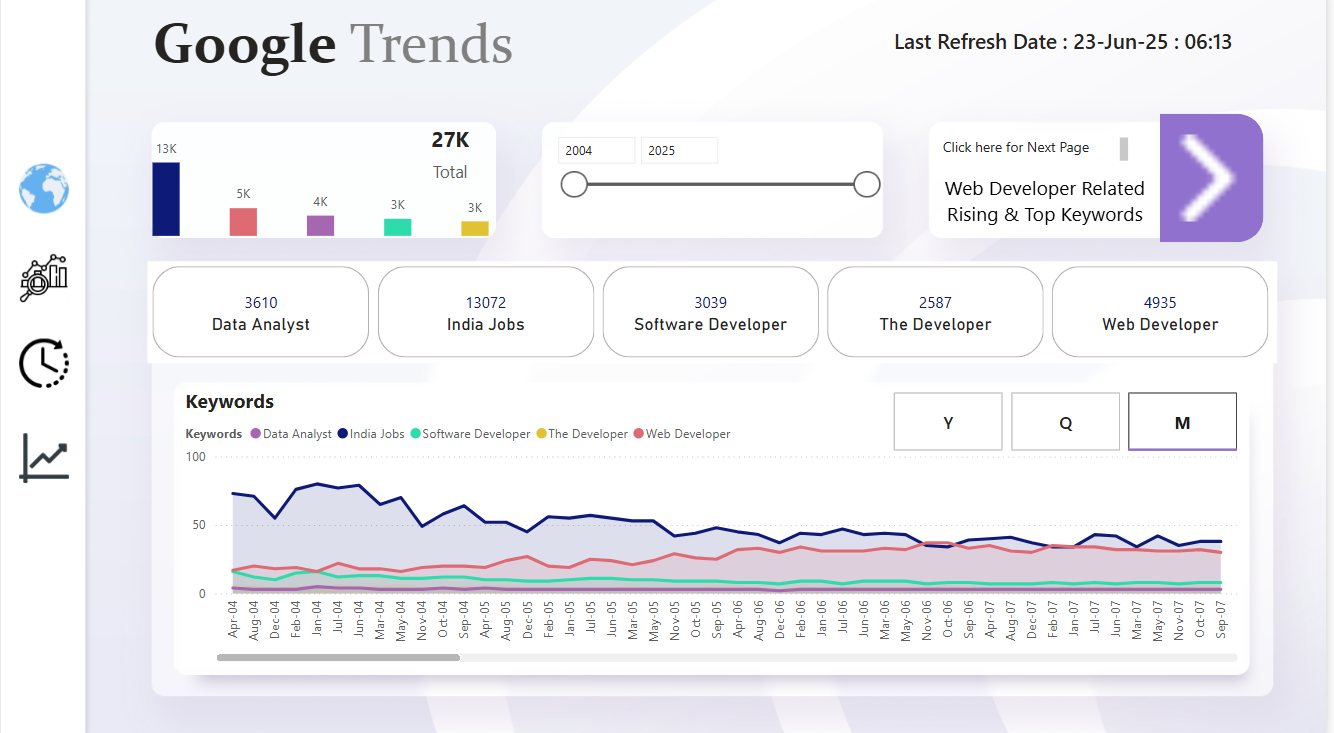

What the dashboard file says about the page in this screenshot:
{"tool":"powerbi","page":{"name":"Keywords by Date","canvas":[1280,720],"ordinal":1},"visuals":[{"type":"areaChart","title":"Keywords","fields":{"Category":["By_Date_API.Month-Yr"],"Y":["By_Date_API.By_Date_Value"],"Series":["By_Date_API.Keywords"]},"box":[174,384,1026,270],"z":0},{"type":"advancedSlicerVisual","fields":{"Values":["Dynamic_Date.Dynamic_Date"]},"box":[858,384,342,66],"z":1000},{"type":"advancedSlicerVisual","fields":{"Values":["By_Date_API.Keywords"]},"box":[142,262,1090,98],"z":2000},{"type":"clusteredColumnChart","fields":{"Y":["By_Date_API.By_Date_Value"],"Category":["By_Date_API.Keywords"]},"box":[142,132,338,112],"z":3000},{"type":"card","fields":{"Values":["By_Date_API.By_Date_Value"]},"box":[390,126,90,62],"z":4000},{"type":"slicer","fields":{"Values":["By_Date_API.Year"]},"box":[526,132,332,112],"z":5000},{"type":"textbox","box":[898,138,196,44],"z":6000},{"type":"textbox","box":[142,14,534,76],"z":7000},{"type":"card","fields":{"Values":["Min(Refresh_Date.Refresh_Date)"]},"box":[820,24,412,54],"z":8000},{"type":"actionButton","box":[1120,120,100,124],"z":9000},{"type":"shape","box":[898,160,222,84],"z":10000},{"type":"actionButton","box":[14,160,56,62],"z":11000},{"type":"actionButton","box":[14,244,56,68],"z":12000},{"type":"actionButton","box":[14,326,56,68],"z":13000},{"type":"actionButton","box":[14,418,56,68],"z":14000}]}

Visuals, with their boxes on the page's 1280x720 design canvas (x1, y1, x2, y2). These are canvas units, not pixel positions in the 1334x733 screenshot, which may show the page scaled, cropped or inside an application window:
"Keywords" areaChart: rect(174, 384, 1200, 654)
advancedSlicerVisual - Dynamic_Date.Dynamic_Date: rect(858, 384, 1200, 450)
advancedSlicerVisual - By_Date_API.Keywords: rect(142, 262, 1232, 360)
clusteredColumnChart - By_Date_API.By_Date_Value x By_Date_API.Keywords: rect(142, 132, 480, 244)
card - By_Date_API.By_Date_Value: rect(390, 126, 480, 188)
slicer - By_Date_API.Year: rect(526, 132, 858, 244)
textbox: rect(898, 138, 1094, 182)
textbox: rect(142, 14, 676, 90)
card - Min(Refresh_Date.Refresh_Date): rect(820, 24, 1232, 78)
actionButton: rect(1120, 120, 1220, 244)
shape: rect(898, 160, 1120, 244)
actionButton: rect(14, 160, 70, 222)
actionButton: rect(14, 244, 70, 312)
actionButton: rect(14, 326, 70, 394)
actionButton: rect(14, 418, 70, 486)
